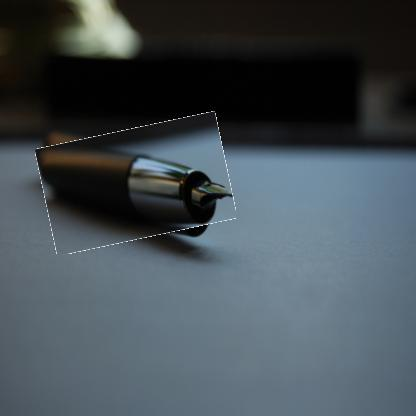Pen: (40, 120, 232, 247)
